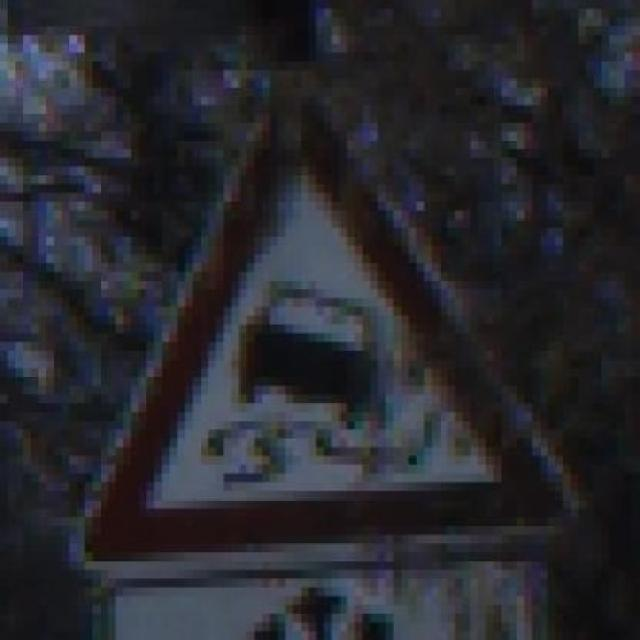Slippery Road Ahead: (77, 70, 594, 579)
